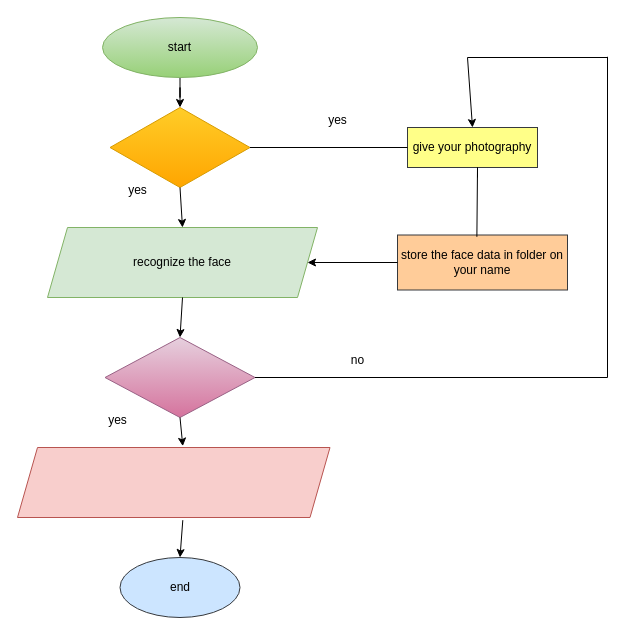
Image size: 626x635. Some labels were removed from this diagram. The centre of each missing label's shape, as x and y in pixels:
"face recognised" goes at [179,377].
"new user" goes at [179,147].
"stored in csv file with registration number and date time of entry" goes at [173,482].
